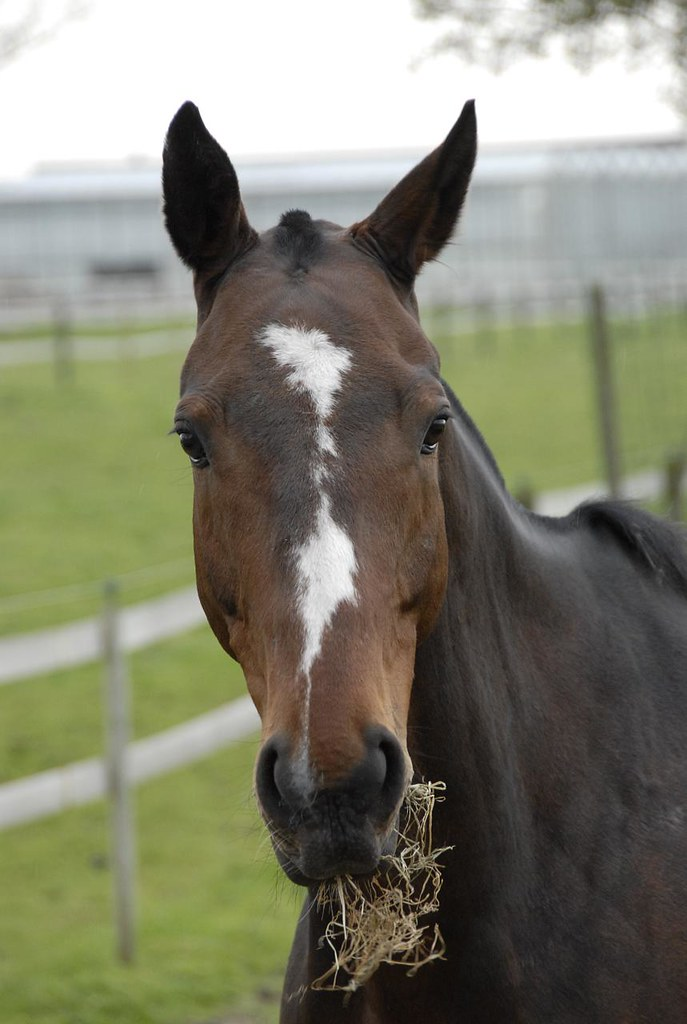horse: (153, 94, 687, 1015)
